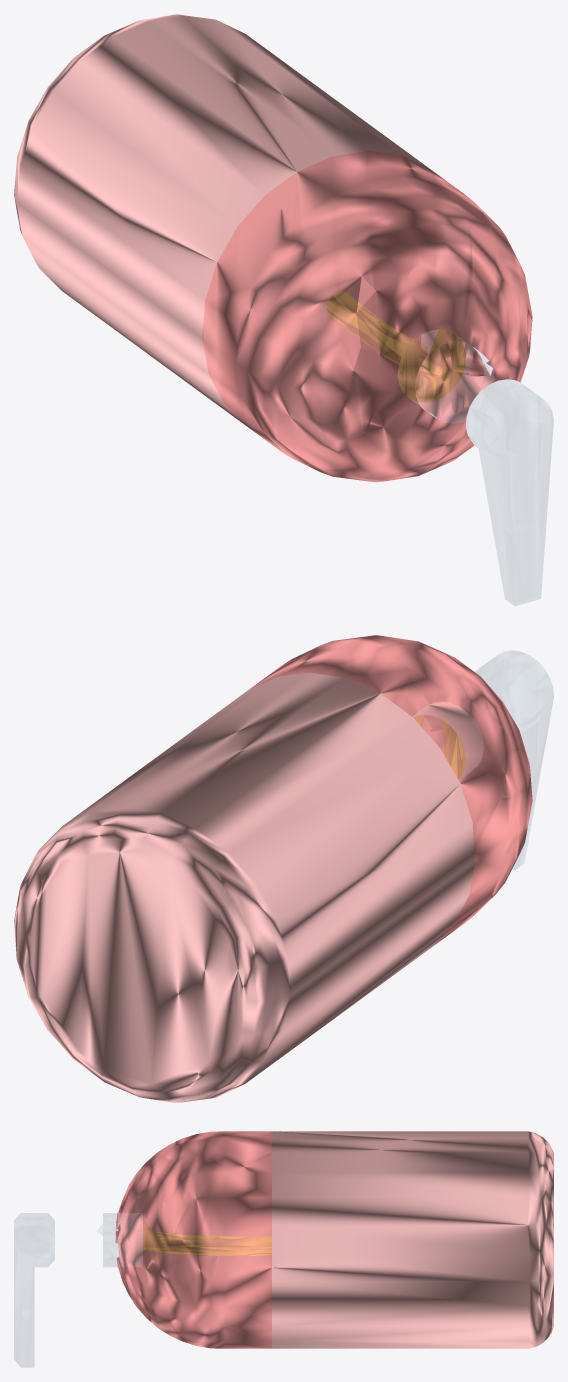
Rendered from model_align.obj.
3 views of the same model, one above another, from view 1: azimuth 30°, elevation 25°; view 2: azimuth 150°, elevation 25°; view 3: azimuth 270°, elevation 25° (orthographic). The views are drawn at different scales.
Bounding box in the file's own units: 0.0644 × 0.0716 × 0.1589.
